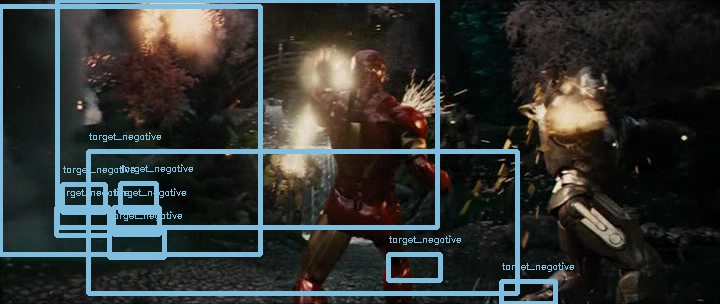person: (345, 44, 387, 86), (344, 44, 386, 86), (346, 44, 388, 86), (345, 43, 387, 85), (345, 45, 387, 87)
target_negative: (280, 275, 685, 303), (566, 140, 581, 274), (390, 209, 465, 218), (652, 206, 658, 271), (657, 247, 665, 289)
